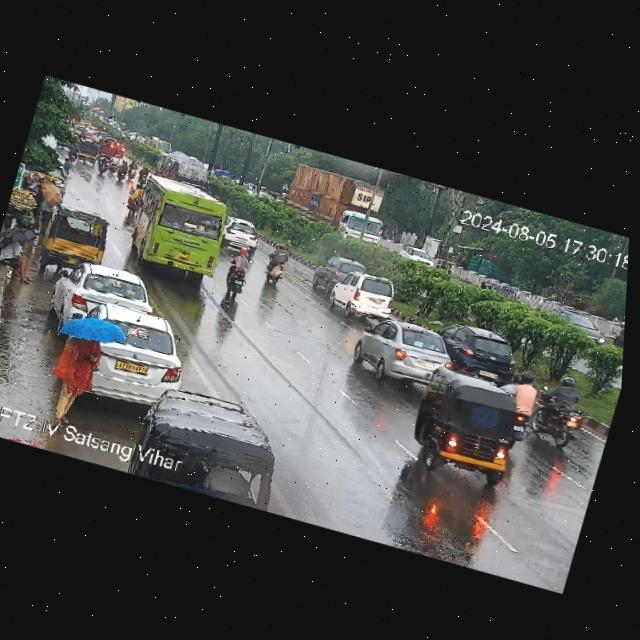bus: (121, 165, 237, 286), (269, 189, 286, 207)
car: (343, 294, 528, 413), (396, 358, 533, 492), (85, 310, 194, 415), (40, 253, 153, 336), (28, 199, 125, 285), (309, 248, 406, 326), (216, 213, 266, 256), (397, 238, 437, 269), (479, 277, 518, 304), (70, 135, 101, 168)
motorcycle: (500, 356, 595, 452), (220, 244, 256, 300), (260, 238, 292, 286), (117, 155, 153, 187), (94, 149, 125, 181), (124, 181, 143, 212)
person: (44, 328, 99, 425), (0, 215, 49, 287), (20, 176, 58, 226)
truck: (281, 160, 402, 249), (140, 143, 217, 192)
